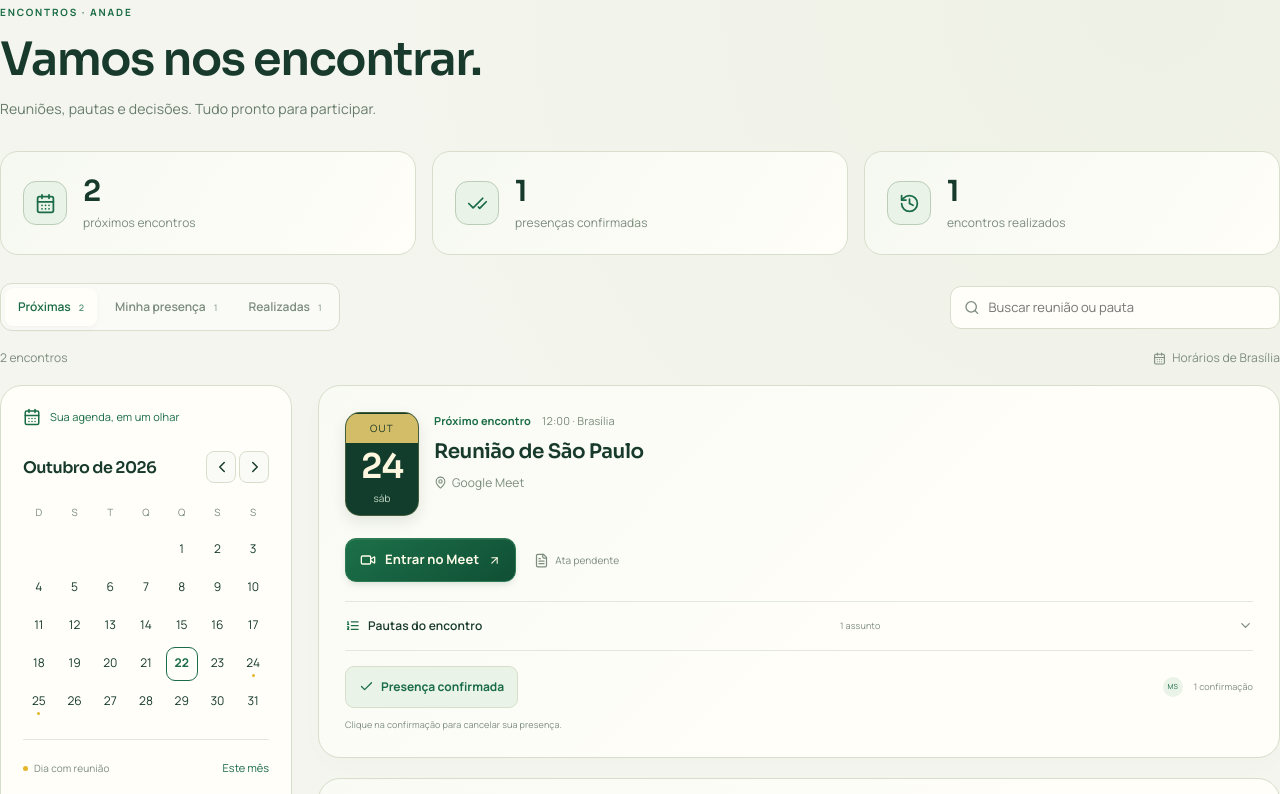
Test: calendário usa Brasília na virada do mês e a seleção do dia não perde reuniões ao navegar
The width and height of the screenshot is (1280, 794).
Step 1. Click the button named "24 de outubro de 2026 · 1 encontro" → (253, 664), box [237,648,269,682]
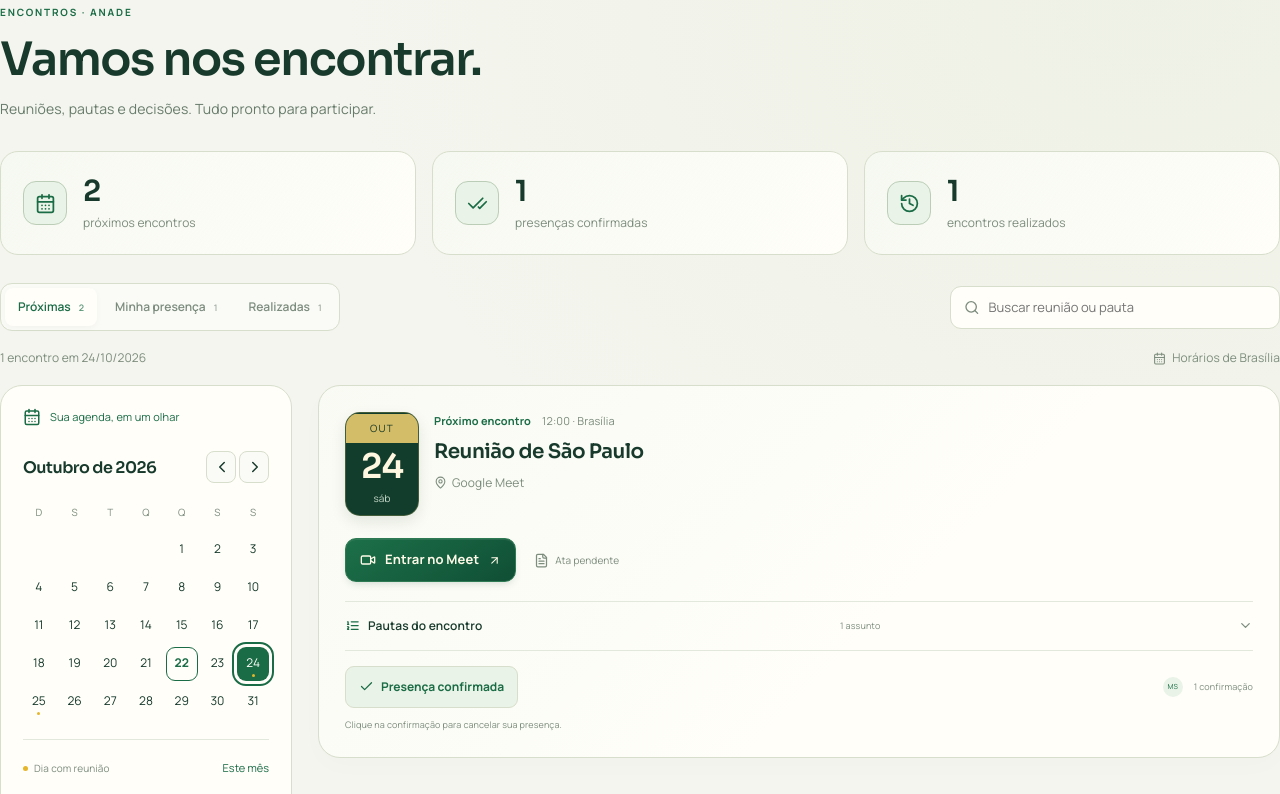
Check: the heading "Reunião de São Paulo" is shown, box [434,439,644,464]
Step 2. Click the button named "Próximo mês" → (254, 468), box [239,452,269,484]
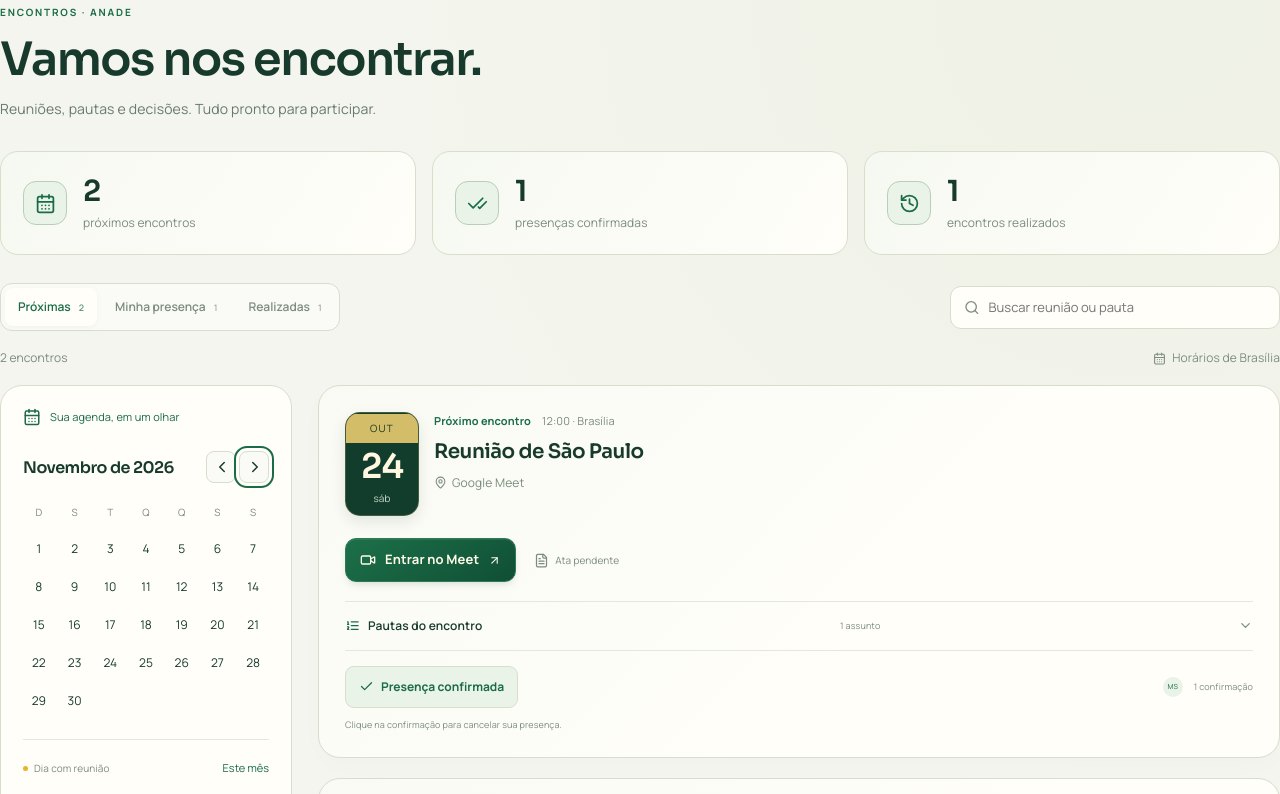
Check: the heading "novembro de 2026" is shown, box [23,457,174,478]
Step 3. Click the button "Este mês" → (246, 769), box [223,756,269,782]
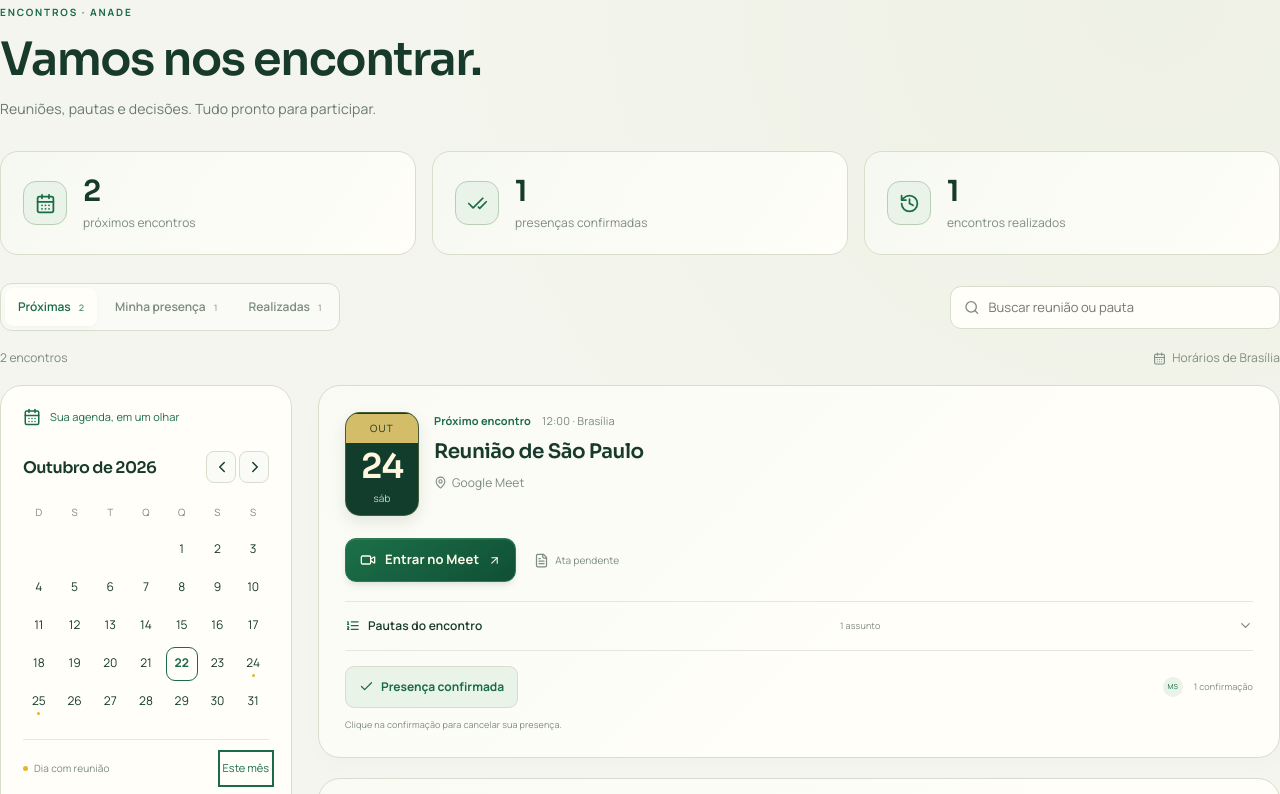
Check: the heading "outubro de 2026" is shown, box [23,457,156,478]
